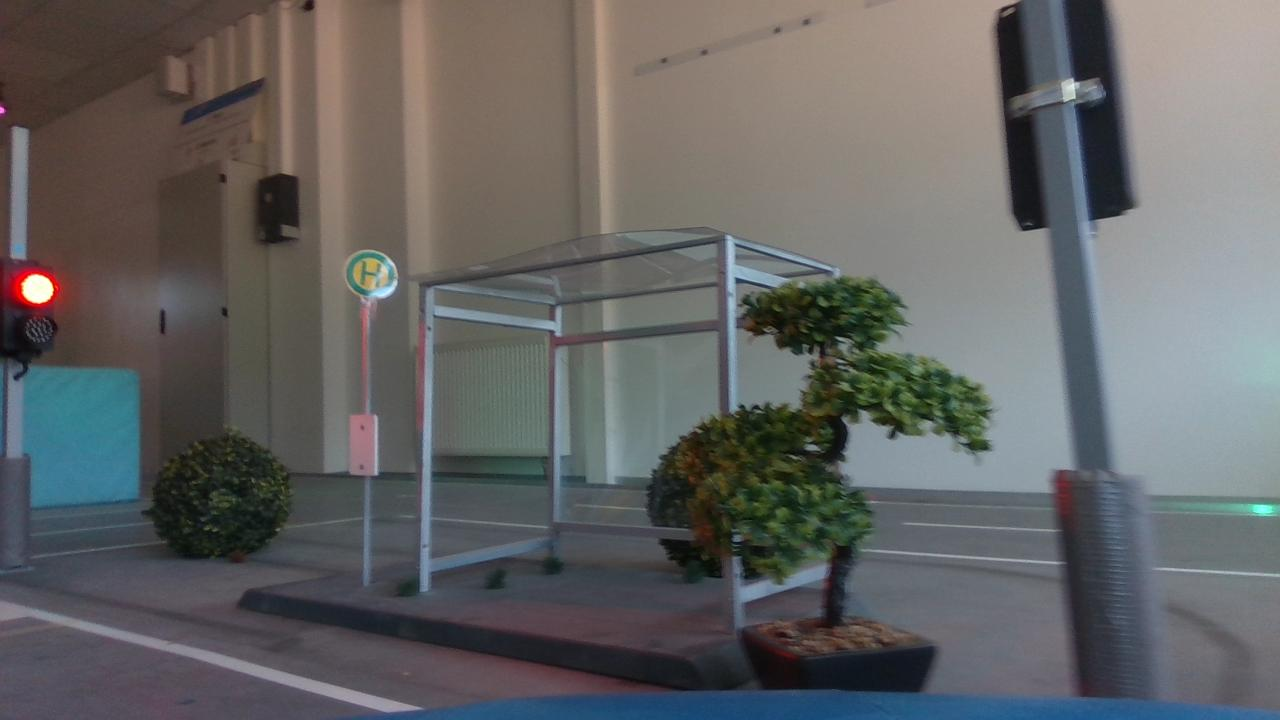traffic_light_red: (1, 248, 67, 373)
